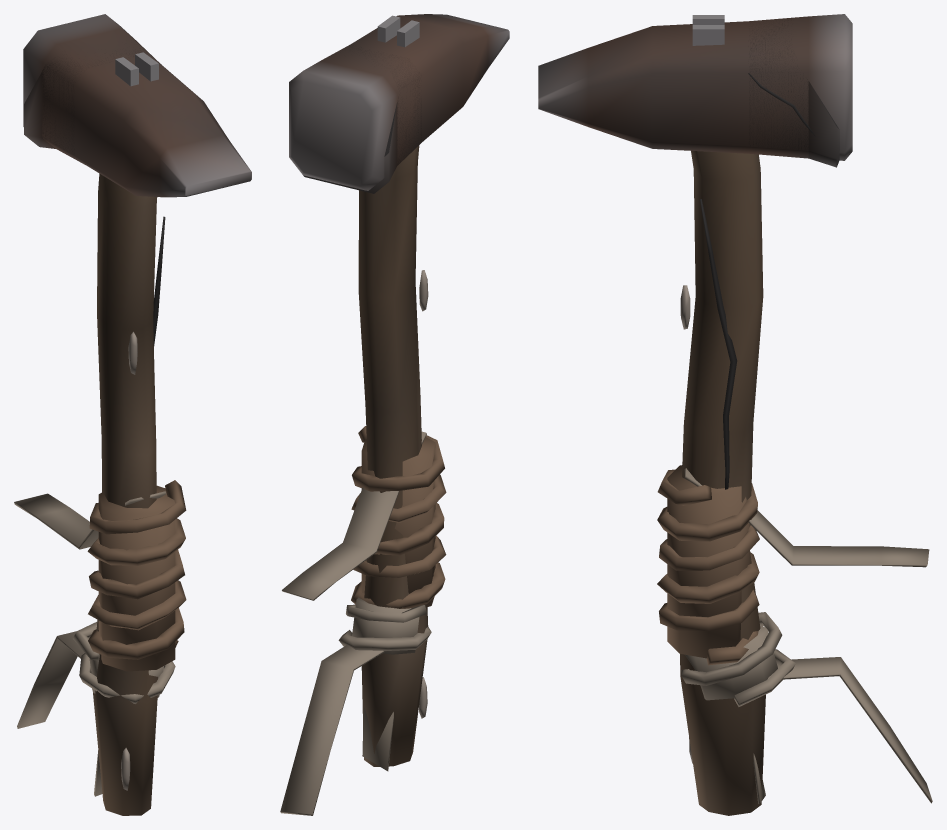
The model's file is wpn_smiths_hammer.glb.
The picture shows the model from 3 angles, left to right: view 1: azimuth 30°, elevation 25°; view 2: azimuth 150°, elevation 25°; view 3: azimuth 270°, elevation 25°; orthographic projection. The views are drawn at different scales.
Visible parts, largest first — view 1: wpn_smiths_hammer, wpn_smiths_hammer_worn; view 2: wpn_smiths_hammer, wpn_smiths_hammer_worn; view 3: wpn_smiths_hammer, wpn_smiths_hammer_worn.
Boxes of the visible parts, bbox=[...] form: wpn_smiths_hammer: bbox=[23, 14, 251, 815]; wpn_smiths_hammer_worn: bbox=[14, 42, 175, 796]; wpn_smiths_hammer: bbox=[289, 14, 509, 766]; wpn_smiths_hammer_worn: bbox=[280, 45, 431, 815]; wpn_smiths_hammer: bbox=[538, 14, 852, 815]; wpn_smiths_hammer_worn: bbox=[681, 18, 932, 803].
Size of what is drawn, in the model's own units: 0.062 by 0.4311 by 0.1969.
